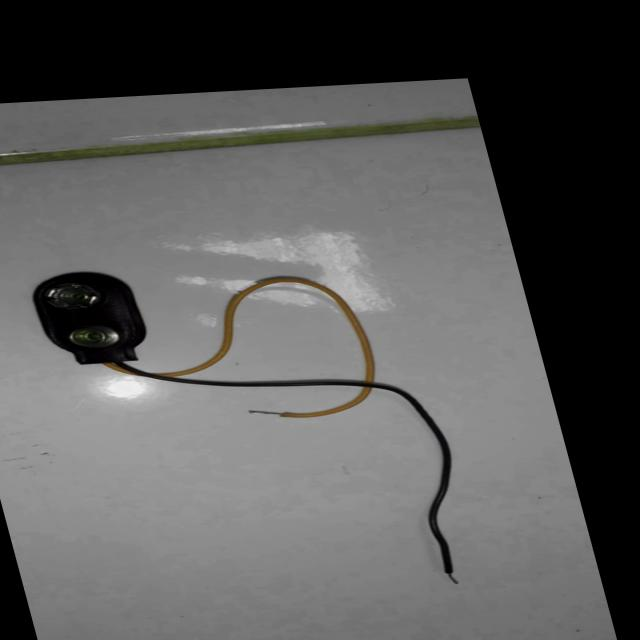Battery Holder: (3, 248, 401, 430)
